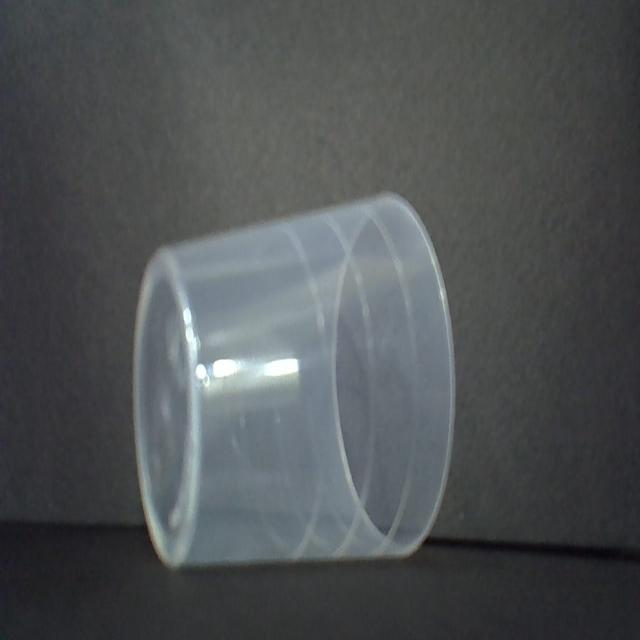cup: (131, 188, 461, 564)
